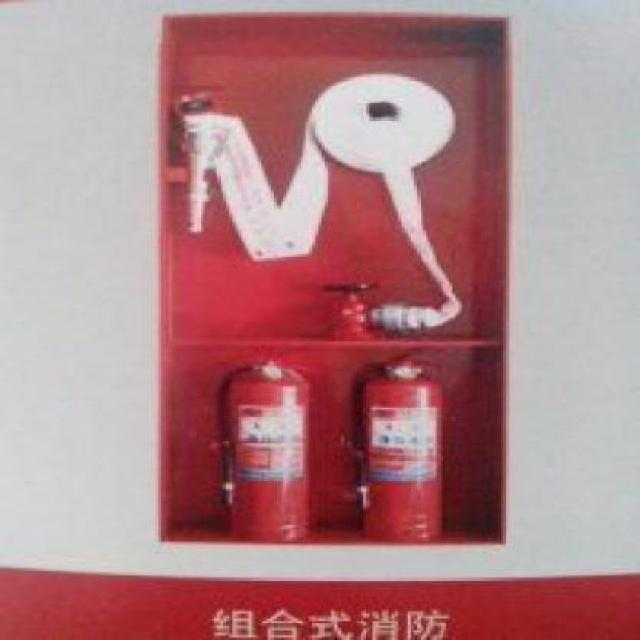firehydrant: (152, 8, 522, 556)
